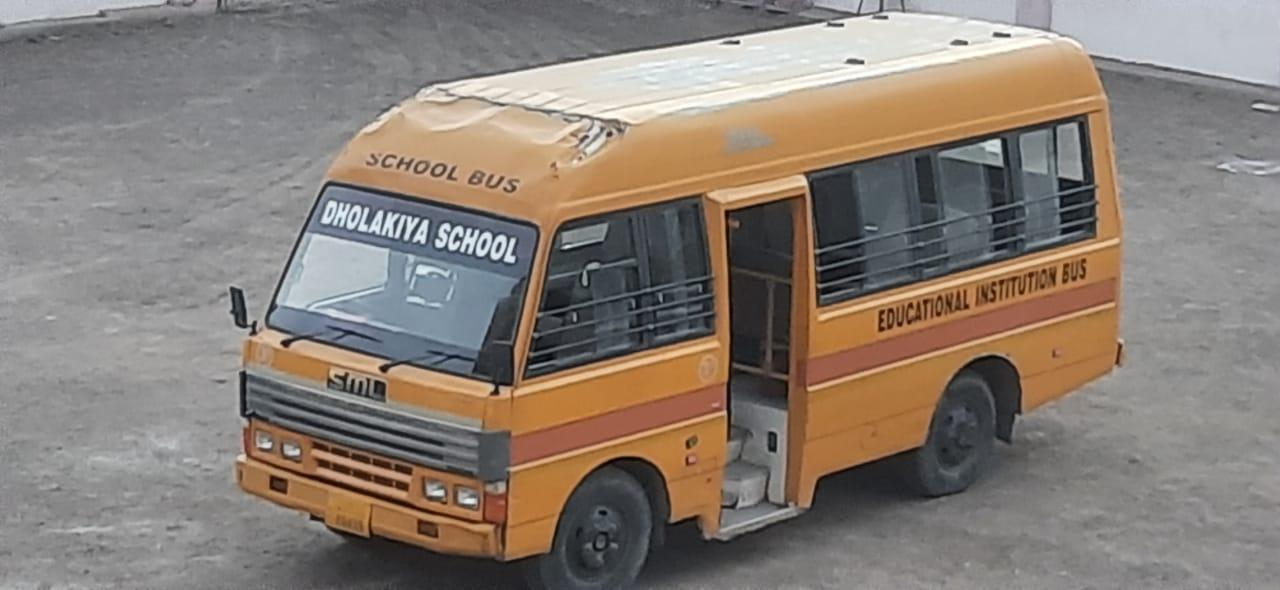Bus: (228, 4, 1153, 586)
